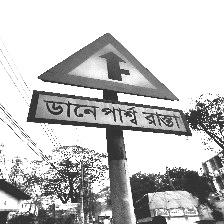Side-road-right: (33, 32, 187, 137)
